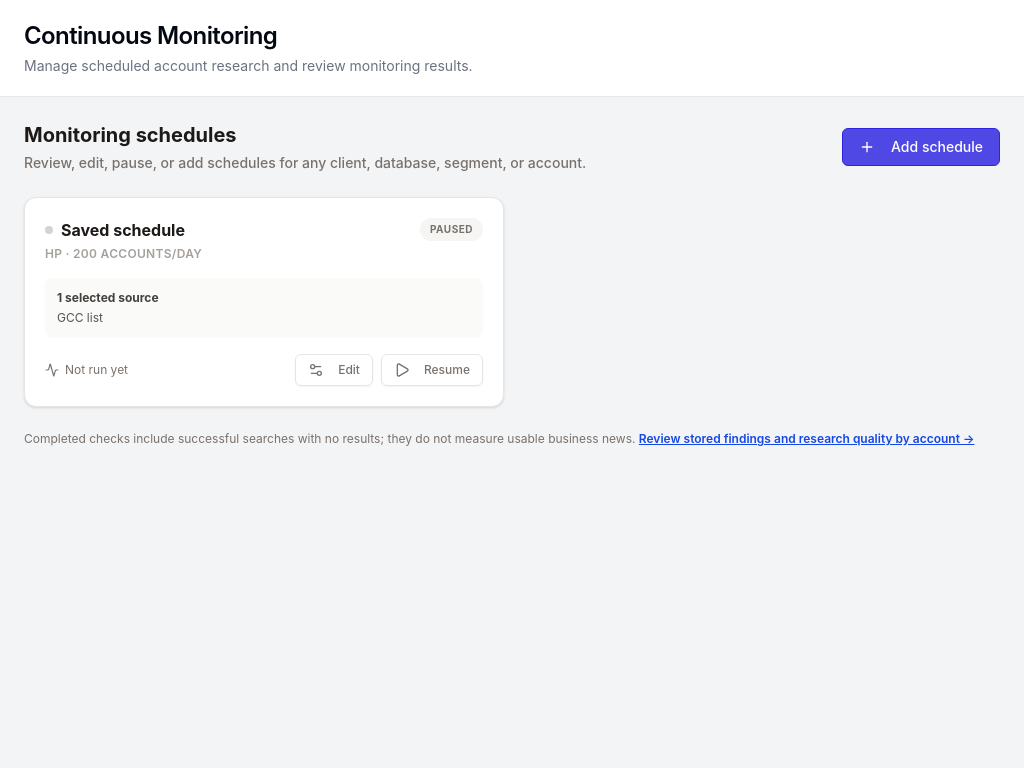
Test: closes the visible schedule editor without saving and restores saved values when reopened
Click the button "Edit" at [334, 370], box [295,354,373,386]
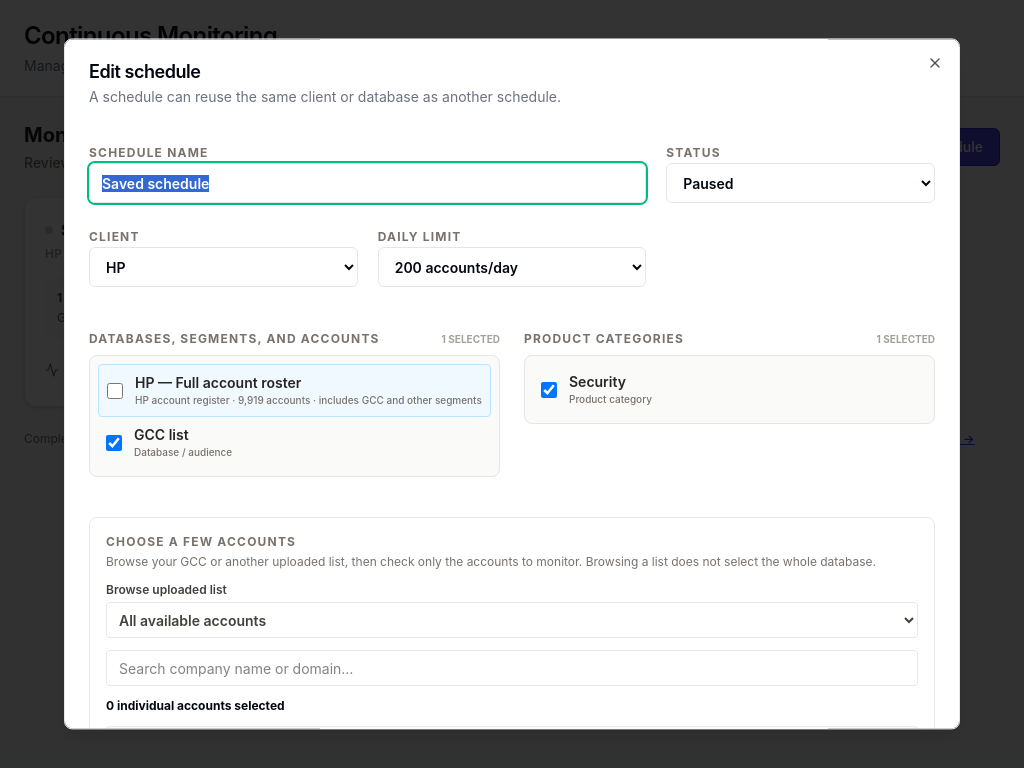
Result: the dialog "Edit schedule" is shown
Replace the text in the field labelled "Schedule name" with "Unsaved change" at [368, 183], box [89,163,646,203]
(page scrolled)
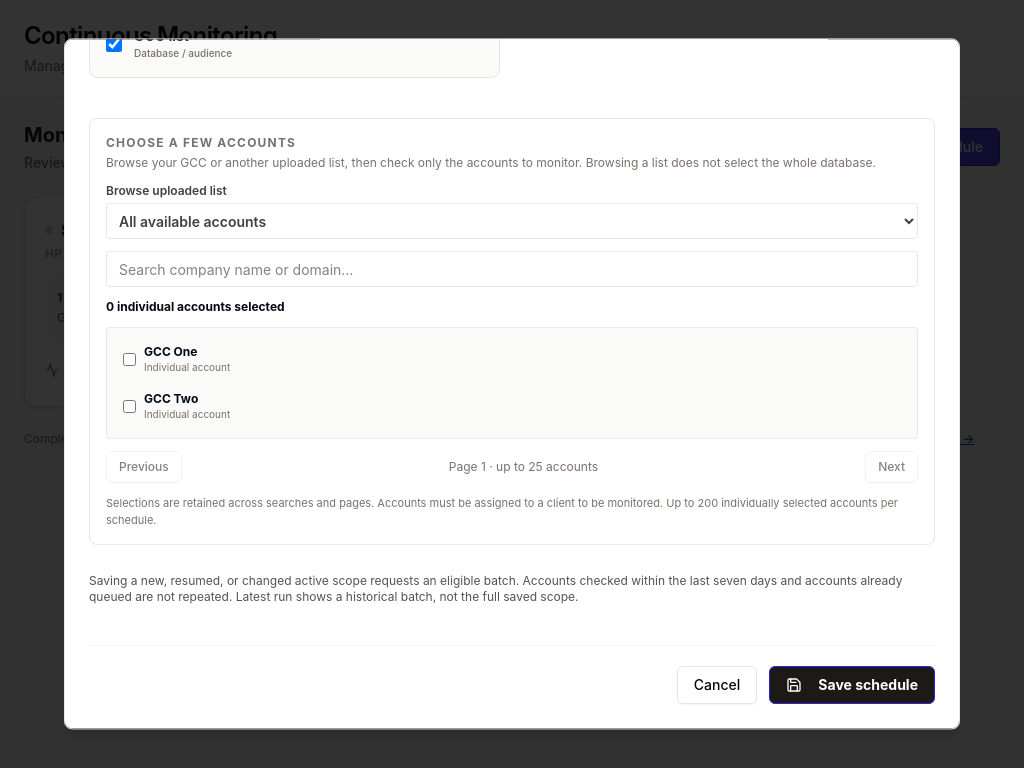
Click the button "Cancel" at [717, 685], box [677,666,757,704]
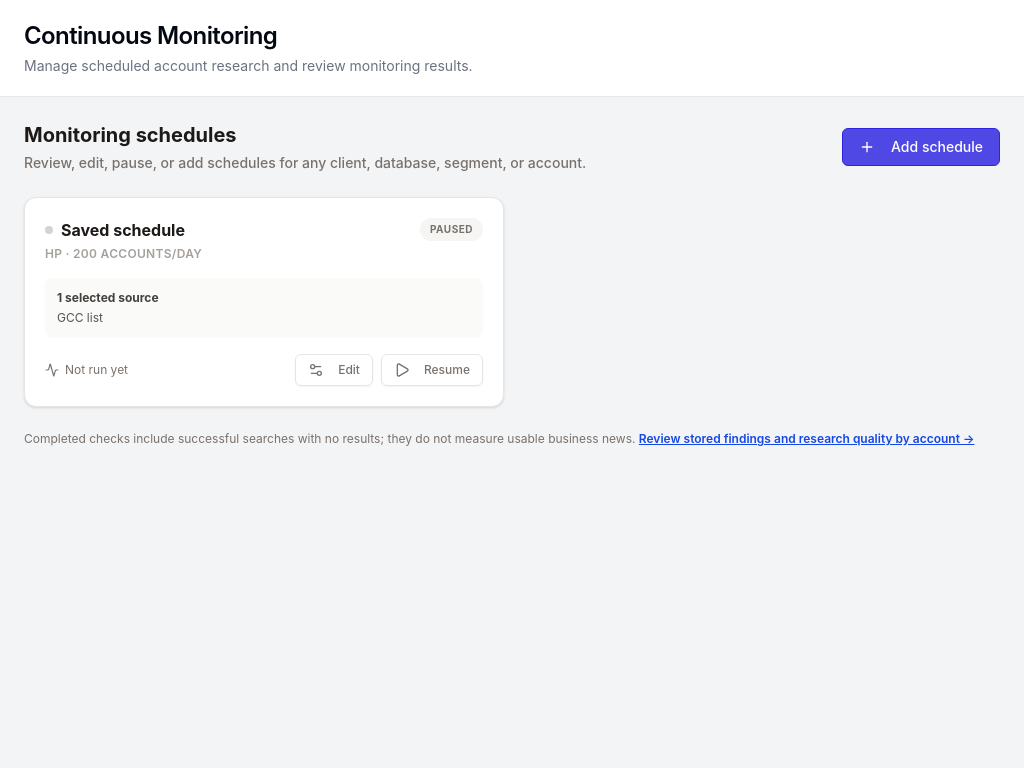
Result: the dialog is gone
Click the button "Edit" at [334, 370], box [295,354,373,386]
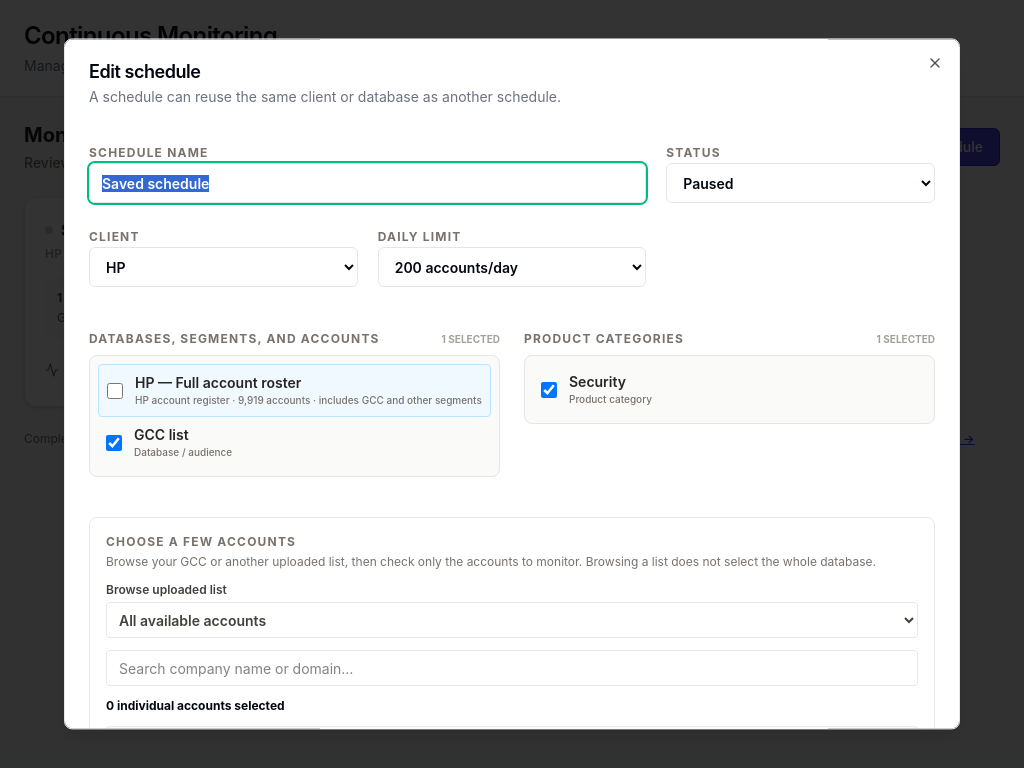
Result: the field labelled "Schedule name" holds "Saved schedule" at [89,163,646,203]
Click the button named "Close" at [935, 63], box [927,55,943,71]
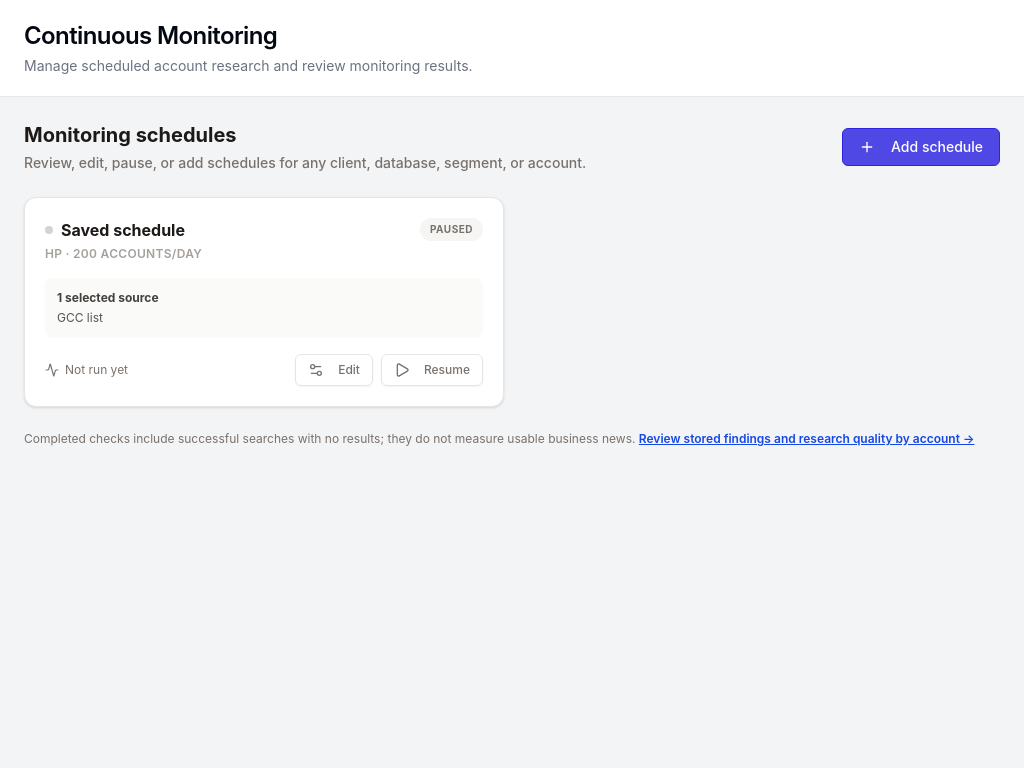
Result: the dialog is gone
